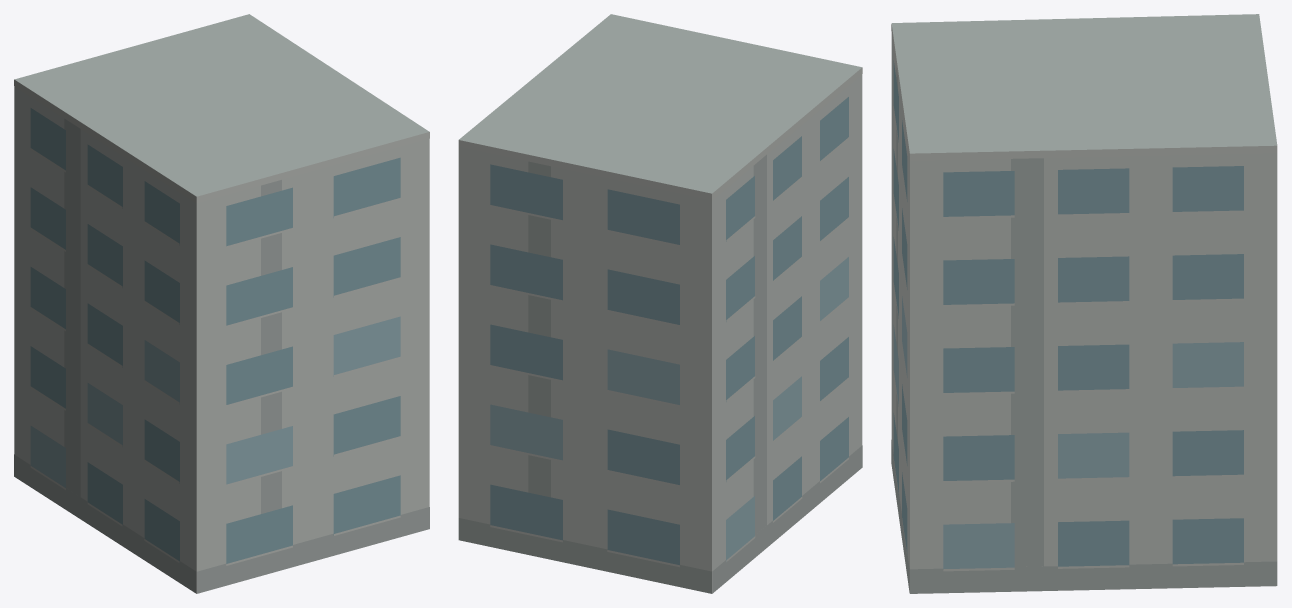
Rendered from survey-upis-33033274.glb.
3 renders of one model, left to right at view 1: azimuth 30°, elevation 25°; view 2: azimuth 150°, elevation 25°; view 3: azimuth 270°, elevation 25°, orthographic. The views are drawn at different scales.
Visible parts, largest first — view 1: survey-upis-33033274.tmp; view 2: survey-upis-33033274.tmp; view 3: survey-upis-33033274.tmp.
Part boxes in pixels (<box>): survey-upis-33033274.tmp: <box>14,14,429,593</box>; survey-upis-33033274.tmp: <box>458,14,862,593</box>; survey-upis-33033274.tmp: <box>891,14,1277,593</box>.
Bounding box in the file's own units: 9.8 × 14.4 × 11.45.
